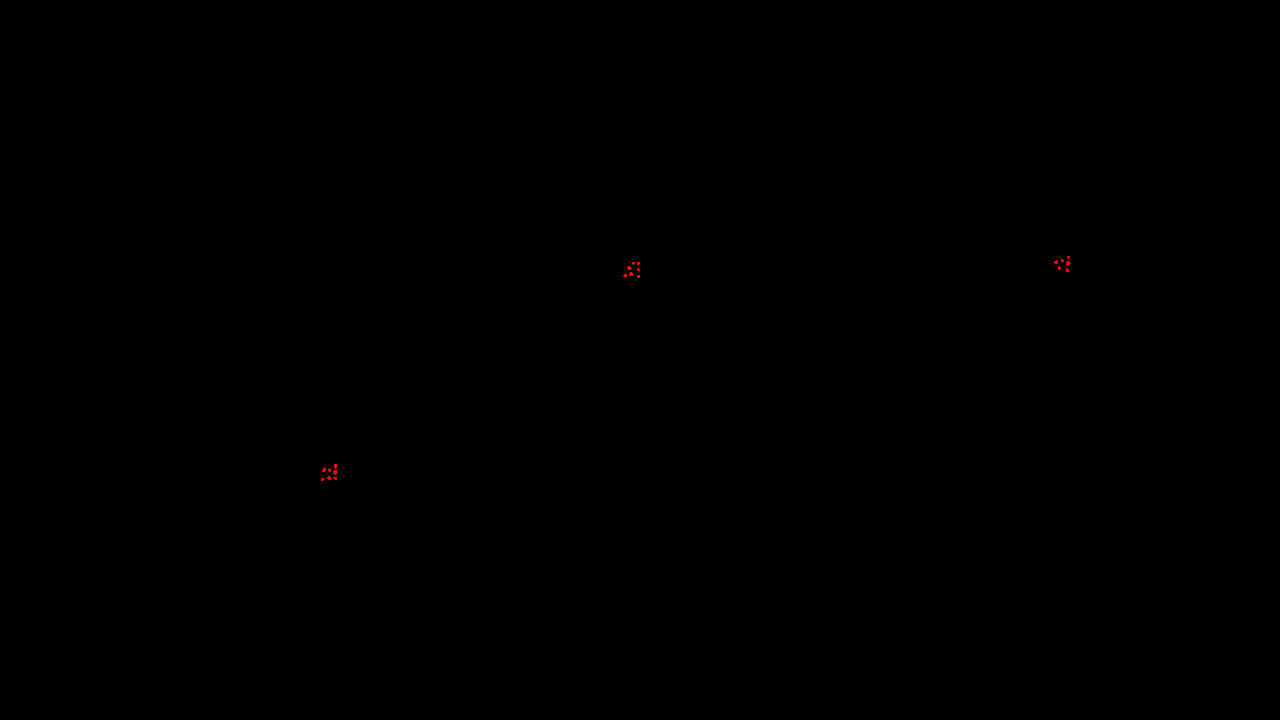Target: (1066, 261, 1071, 266), (333, 470, 338, 475), (627, 266, 632, 270), (327, 476, 332, 480), (1054, 260, 1058, 264), (629, 272, 633, 276), (322, 468, 326, 472), (334, 464, 337, 469), (1058, 266, 1061, 270), (1066, 268, 1069, 272), (623, 274, 627, 277), (328, 468, 331, 472), (333, 477, 337, 480), (1067, 256, 1070, 259), (1061, 259, 1064, 262), (632, 262, 635, 265), (637, 262, 640, 265), (637, 268, 640, 271), (637, 275, 640, 278), (321, 478, 324, 481)
